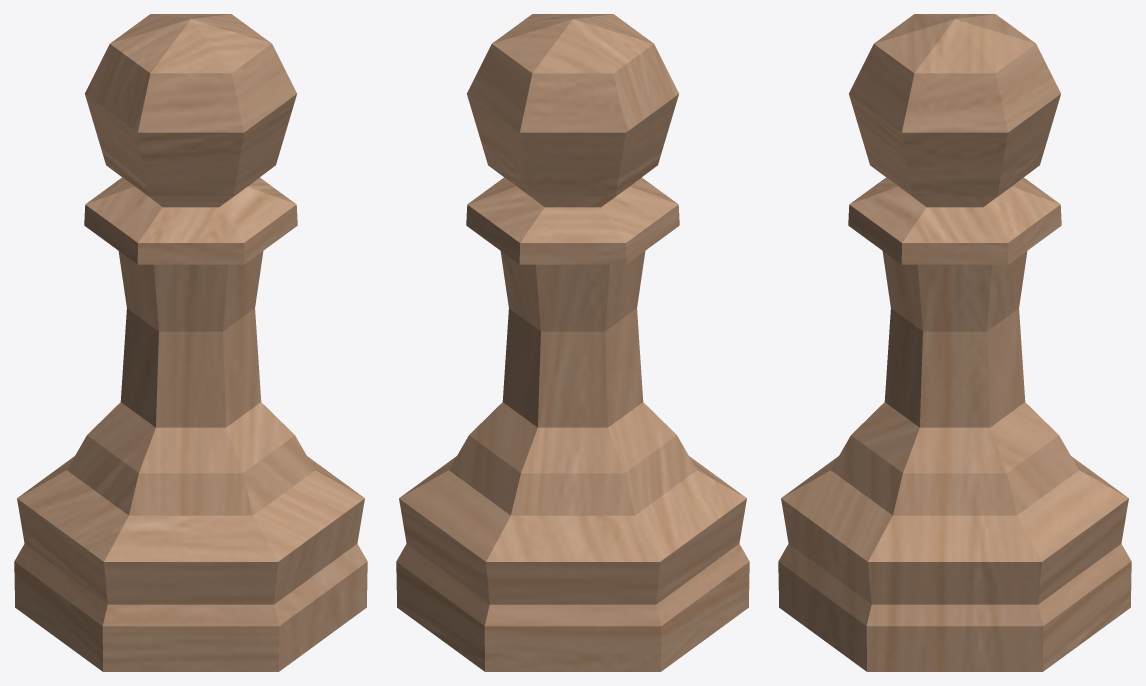
File: pawn.obj
3 views of the same model, side by side, from view 1: azimuth 30°, elevation 25°; view 2: azimuth 150°, elevation 25°; view 3: azimuth 270°, elevation 25° (orthographic).
Visible parts, largest first — view 1: Pawn; view 2: Pawn; view 3: Pawn.
Boxes of the visible parts, x1,y1,x2,y2 form: Pawn: [14, 14, 367, 671]; Pawn: [396, 14, 749, 671]; Pawn: [778, 14, 1131, 671].
Bounding box in the file's own units: 0.8485 × 1.8 × 0.9797.
Materials: 1 (1 with a texture image).
